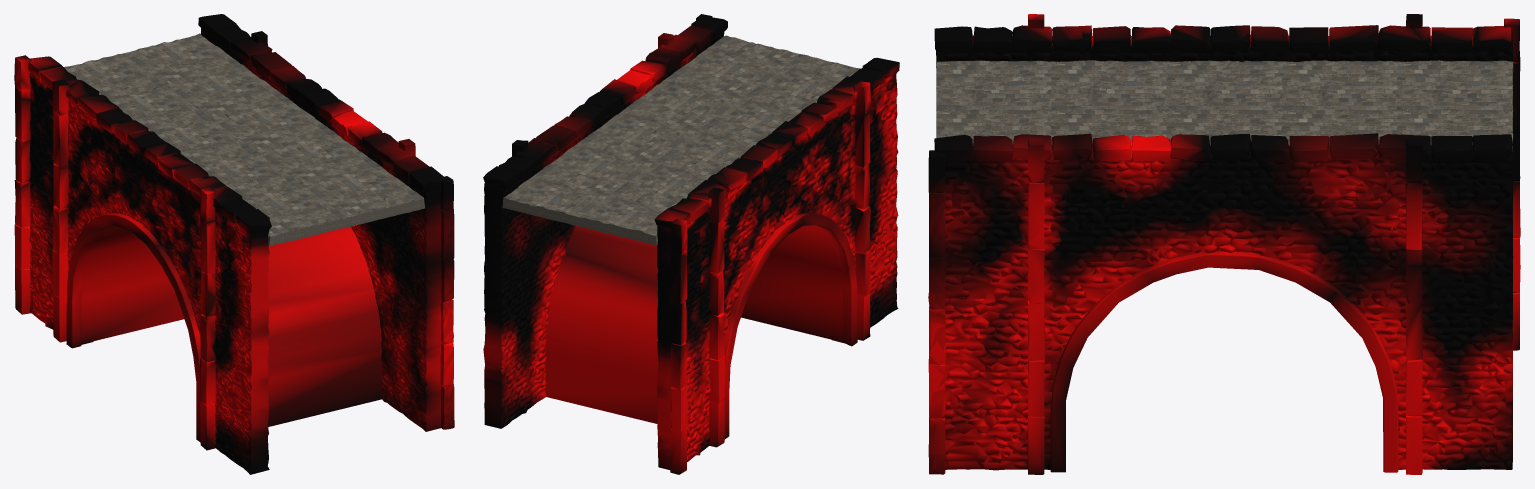
Rendered from SM_Bridge_Middle_01.fbx.
3 renders of one model, left to right at view 1: azimuth 30°, elevation 25°; view 2: azimuth 150°, elevation 25°; view 3: azimuth 270°, elevation 25°, orthographic. The views are drawn at different scales.
Visible parts, largest first — view 1: SM_Bridge_Middle_01_LOD0; view 2: SM_Bridge_Middle_01_LOD0; view 3: SM_Bridge_Middle_01_LOD0.
Boxes of the visible parts, bbox=[...] form: SM_Bridge_Middle_01_LOD0: bbox=[14, 14, 454, 474]; SM_Bridge_Middle_01_LOD0: bbox=[483, 14, 899, 474]; SM_Bridge_Middle_01_LOD0: bbox=[928, 14, 1520, 474].
Size of the model in its own units: 1083 by 2054 by 1268.
